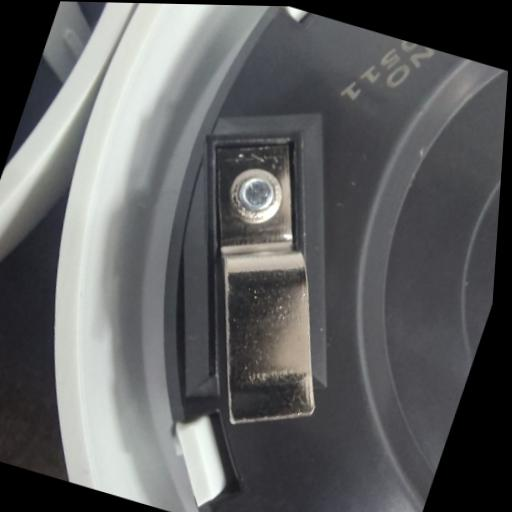yaysiz: (116, 117, 413, 468)
